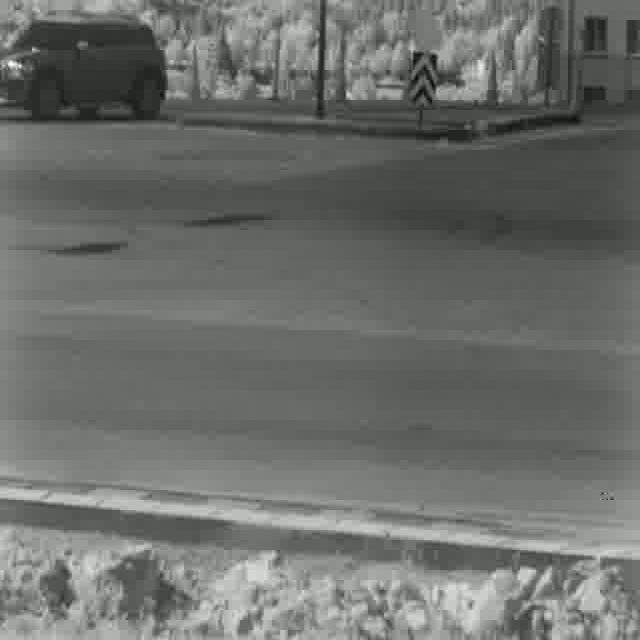Car: (0, 17, 166, 121)
